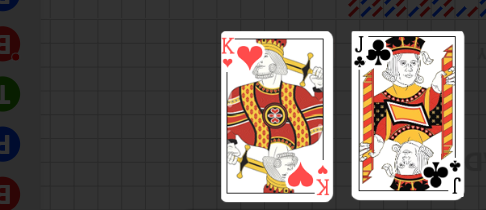JC: (447, 157, 463, 195)
KH: (221, 36, 235, 69)
